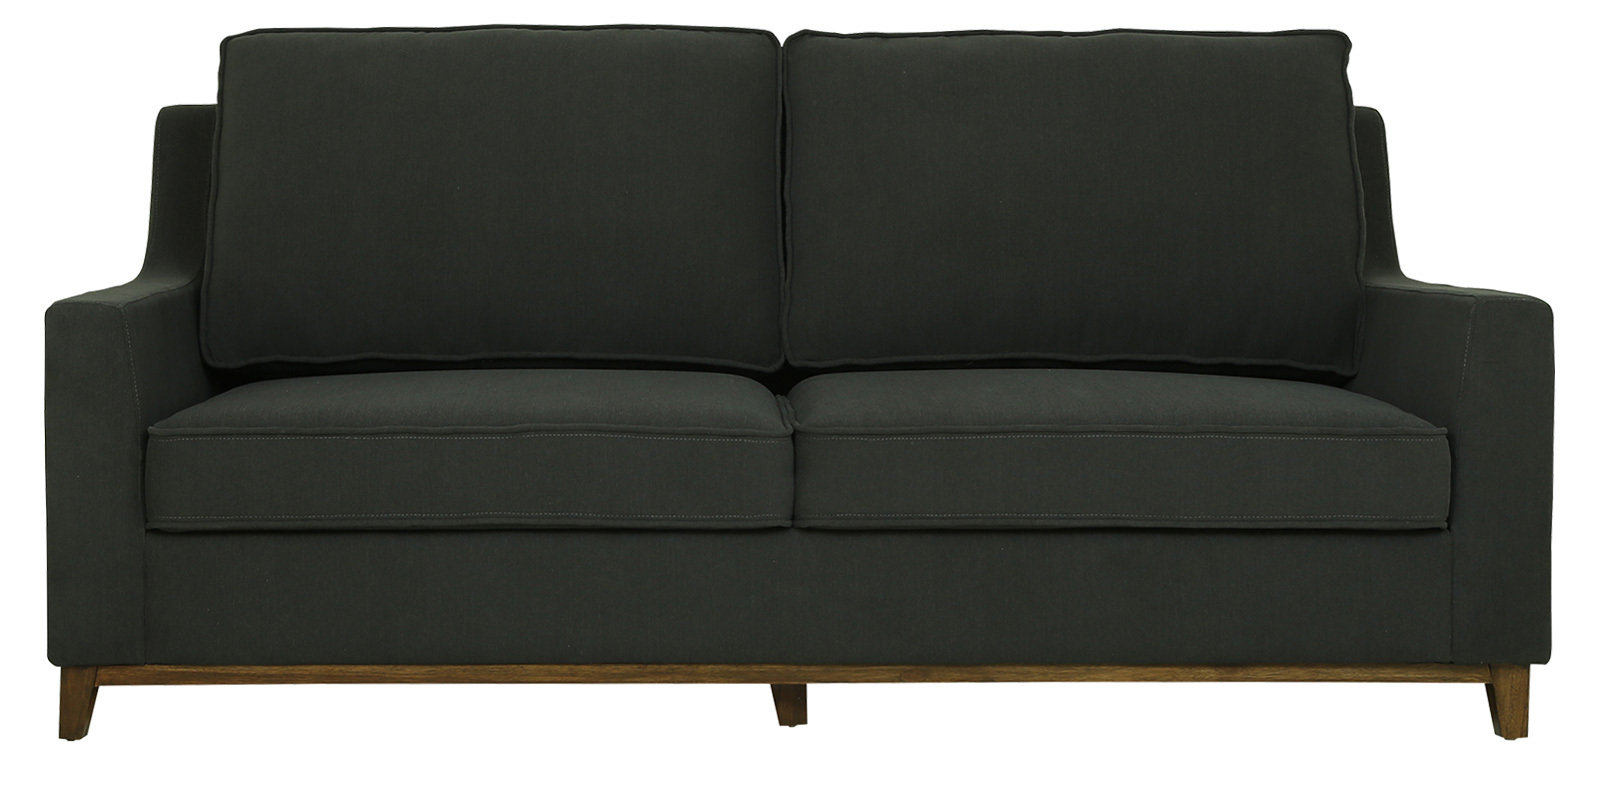Diego Three Seater Sofa in Charcoal Grey Colour by CasaCraft: (38, 23, 1558, 767)
